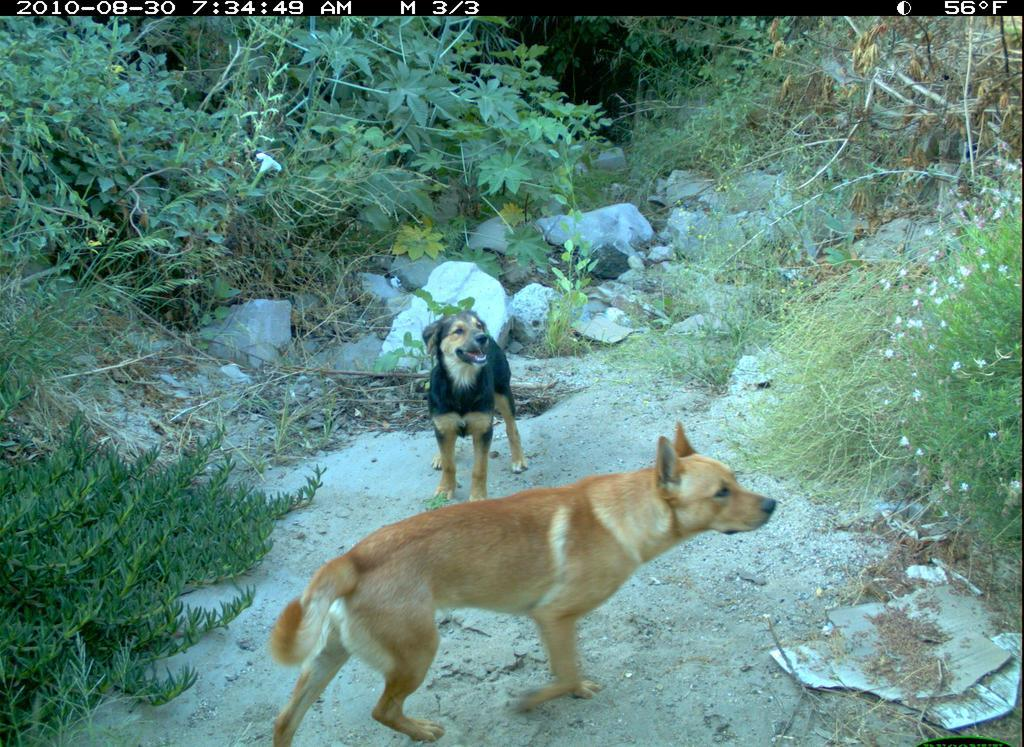dog: (254, 419, 779, 745), (396, 291, 547, 505)
